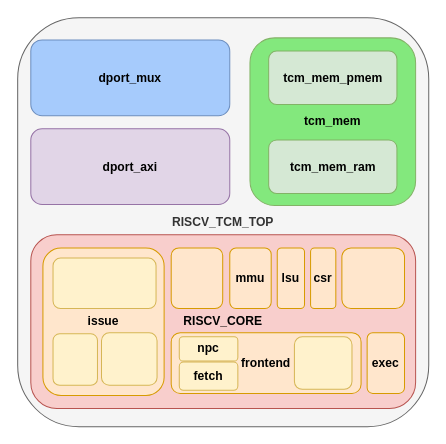
Image size: 446x444. Some labels were removed from this diagram. Each missing label, with the centre of its shape:
decode: the point at 322,362
divider: the point at 196,278
multiplier: the point at 373,278
pipe_ctrl: the point at 128,358
regfile: the point at 74,359
trace_sim: the point at 104,283
